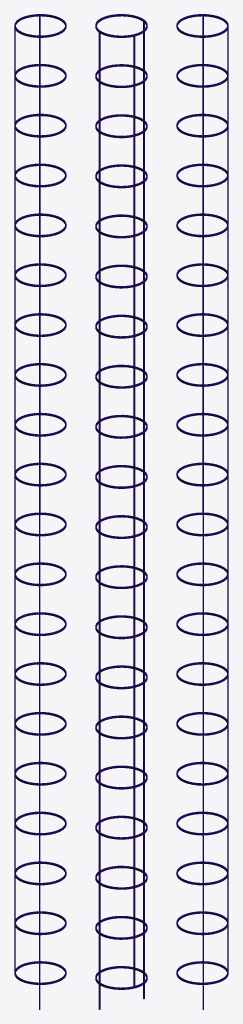
The model's file is rail.glb.
3 views of the same model, side by side, from view 1: azimuth 90°, elevation 25°; view 2: azimuth 210°, elevation 25°; view 3: azimuth 270°, elevation 25° (orthographic).
Parts seen in each view (by area): view 1: Body1.001; view 2: Body1.001; view 3: Body1.001.
Boxes of the visible parts, x1=… form: Body1.001: x1=14, y1=14, x2=66, y2=1009; Body1.001: x1=95, y1=14, x2=147, y2=1009; Body1.001: x1=176, y1=14, x2=228, y2=1009.
Bounding box in the file's own units: 0.038 × 0.7815 × 0.038.
